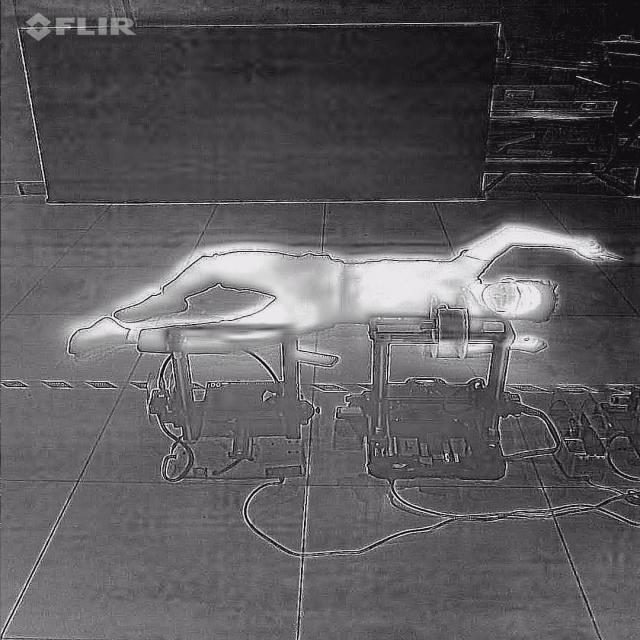Victim: (60, 218, 628, 366)
